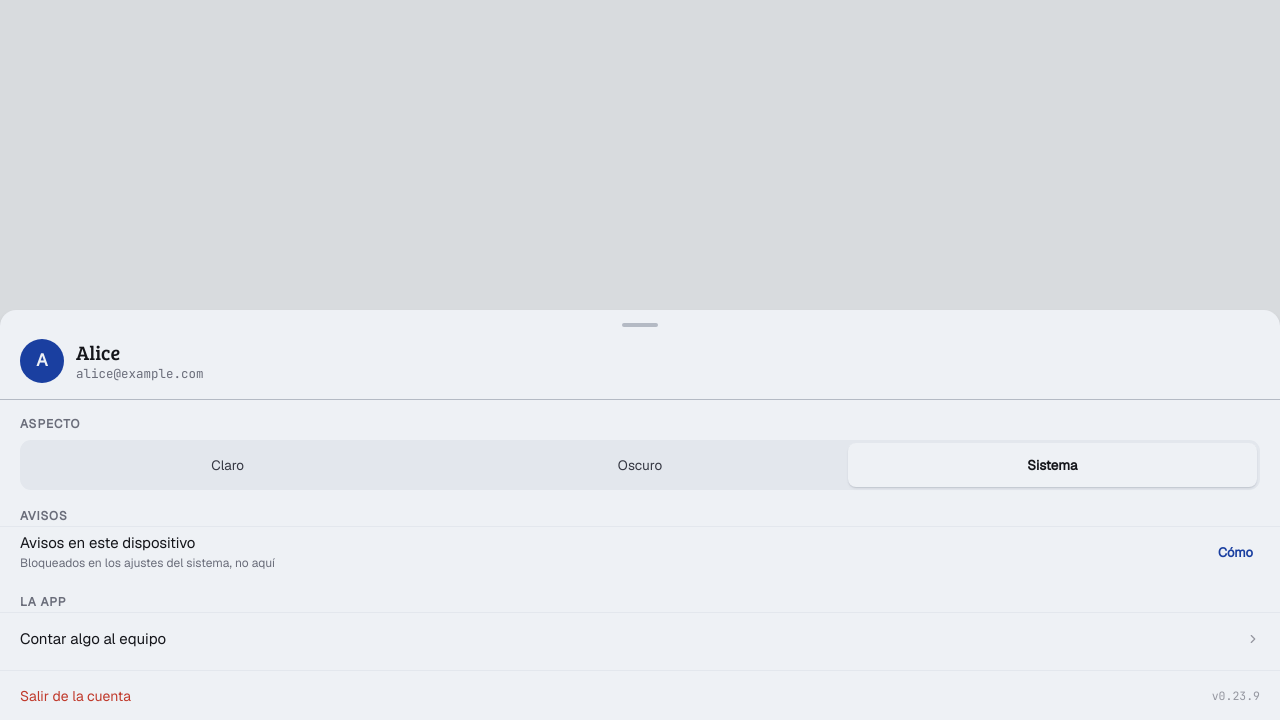
Test: SettingsSheet — Avisos › «Cómo» expands the unblock instructions inline, and collapses them again
This screenshot has width=1280, height=720.
Expected: the text "ajustes de tu navegador" is not shown
Click the button "Cómo" at (1235, 552), box x1=1211 y1=531 x2=1260 y2=574
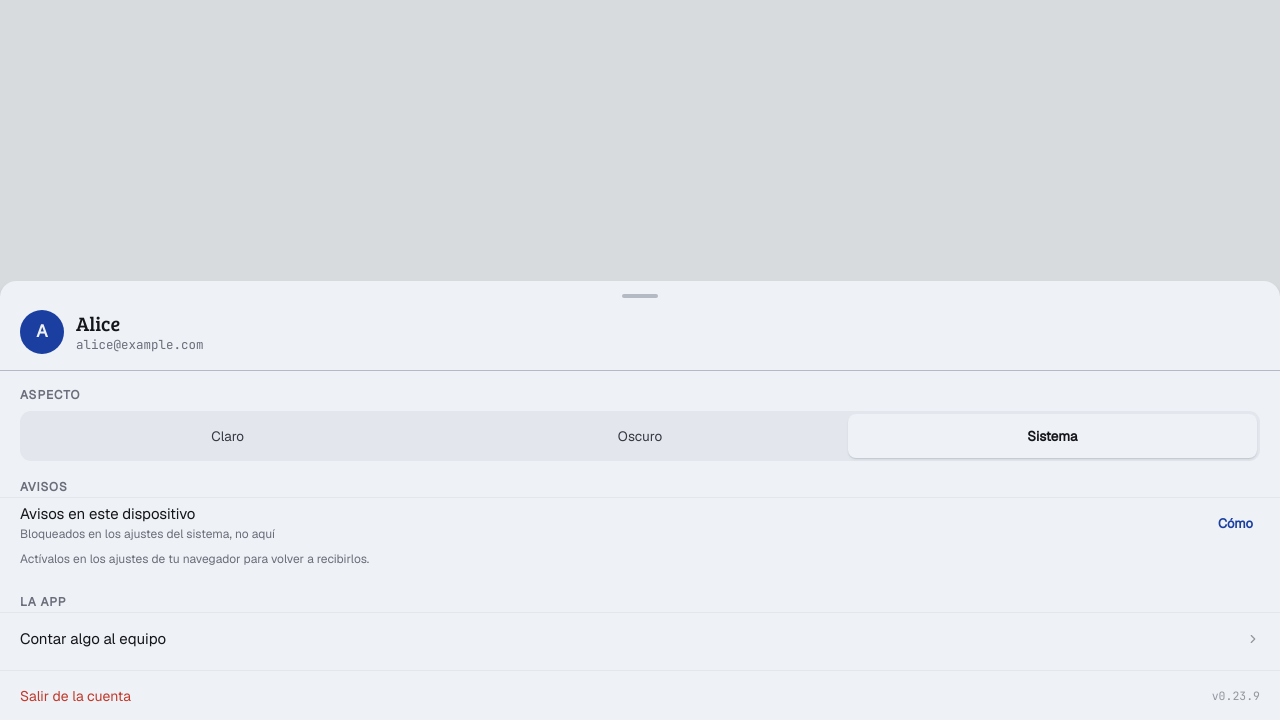
Expected: the button "Cómo" is expanded
Expected: the text "ajustes de tu navegador" is shown, x1=20 y1=551 x2=369 y2=567
Click the button "Cómo" at (1235, 524), box x1=1211 y1=502 x2=1260 y2=545
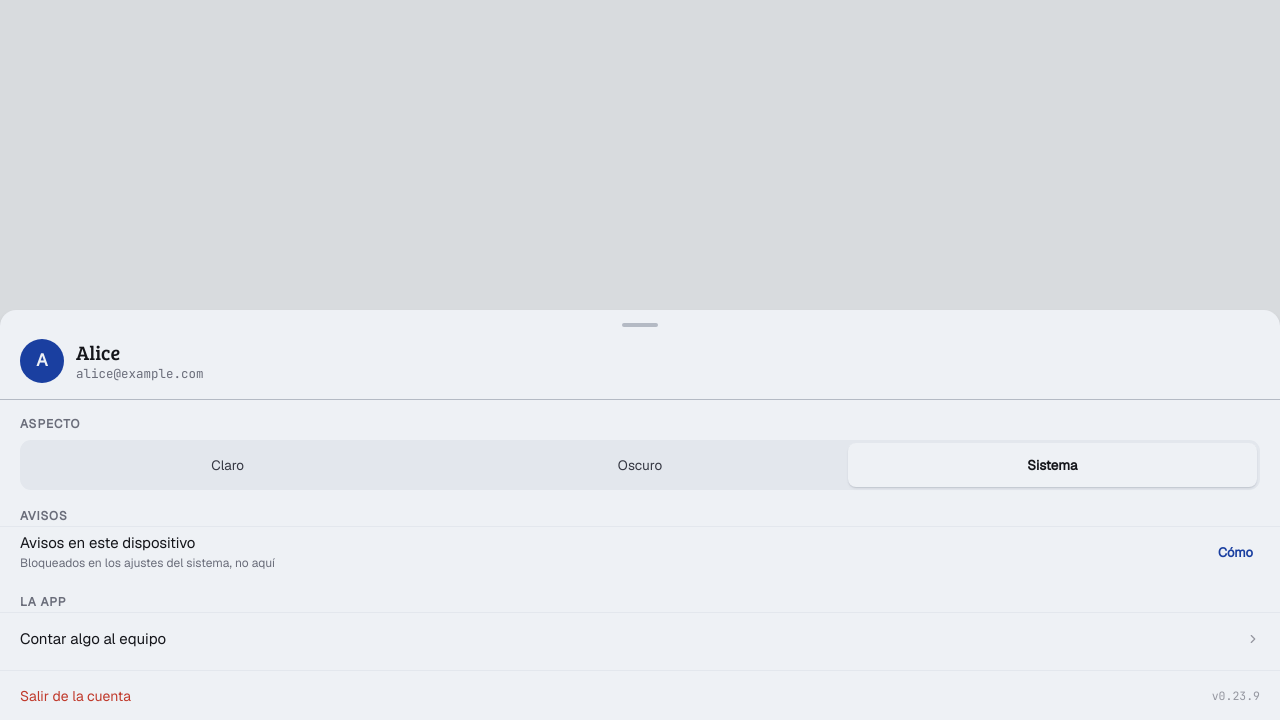
Expected: the text "ajustes de tu navegador" is gone
